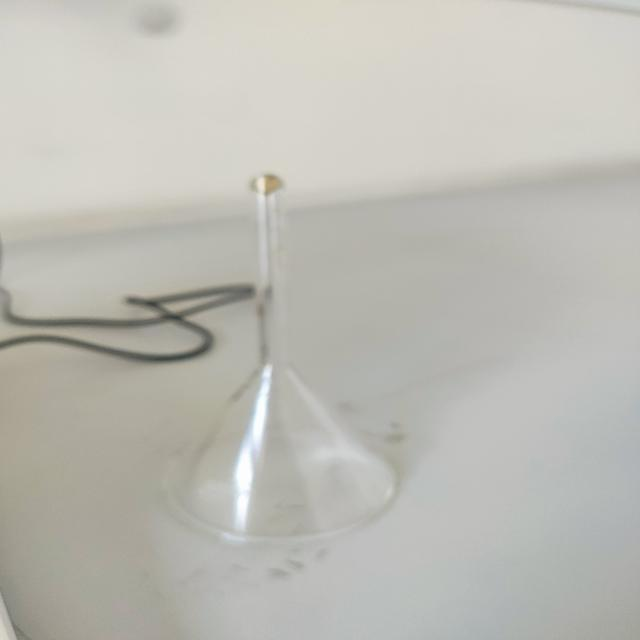Funnel: (133, 146, 449, 573)
